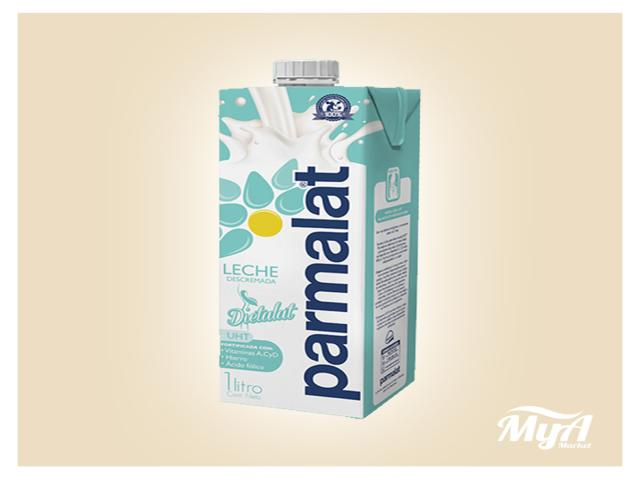drink_box: (192, 45, 434, 426)
